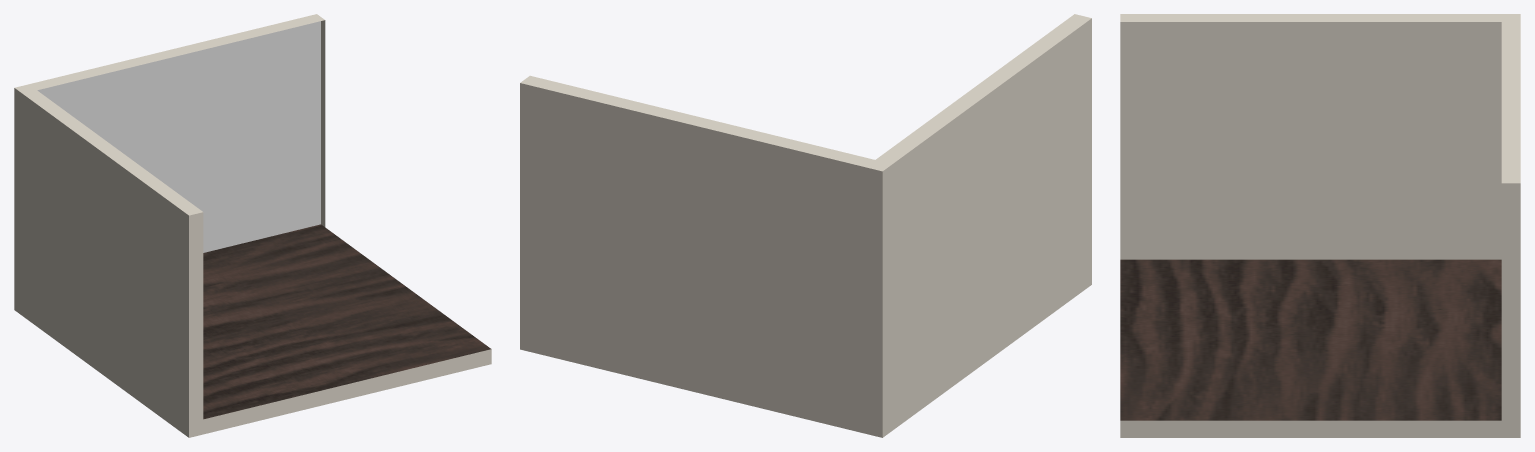
Rendered from Room.fbx.
3 renders of one model, left to right at view 1: azimuth 30°, elevation 25°; view 2: azimuth 150°, elevation 25°; view 3: azimuth 270°, elevation 25°, orthographic. The views are drawn at different scales.
Visible parts, largest first — view 1: Room; view 2: Room; view 3: Room.
Part boxes in pixels (x1,y1,x2,y2): Room: (14, 14, 491, 437); Room: (520, 14, 1091, 437); Room: (1120, 14, 1520, 437).
Size of the model in its own units: 840 by 590 by 840.
